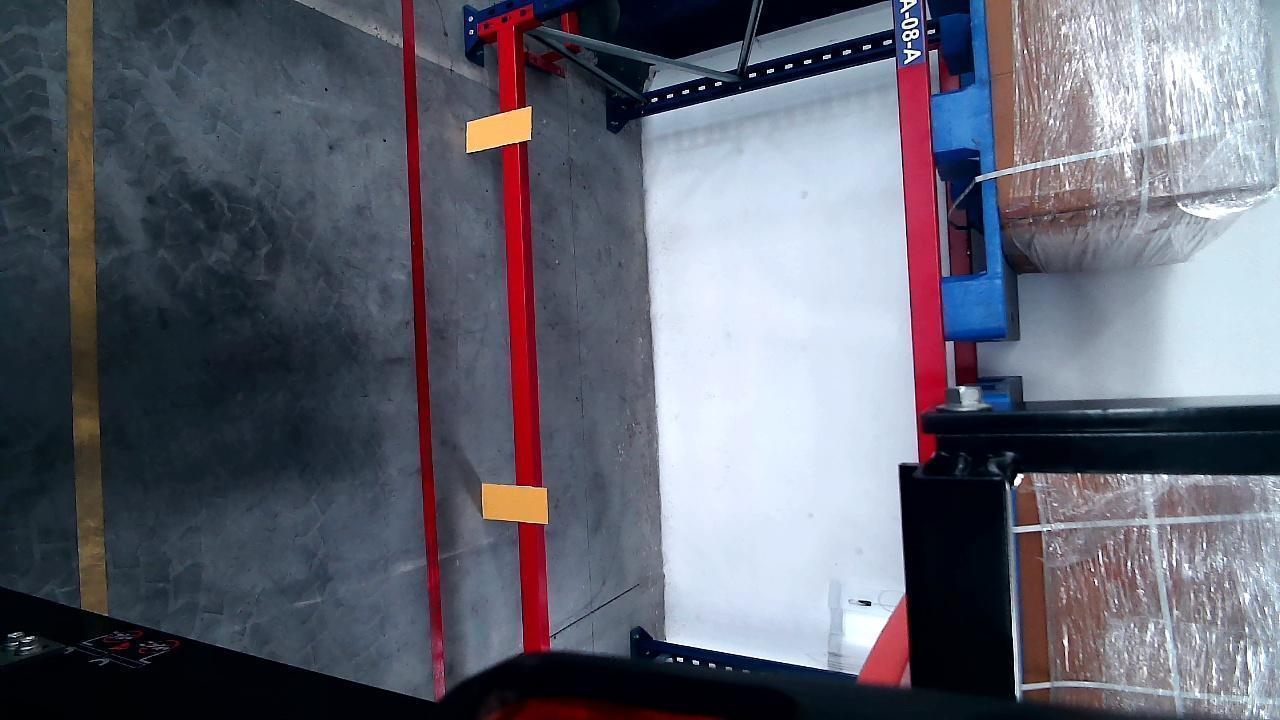red_line: (403, 5, 448, 700)
yellow_line: (66, 0, 103, 614)
